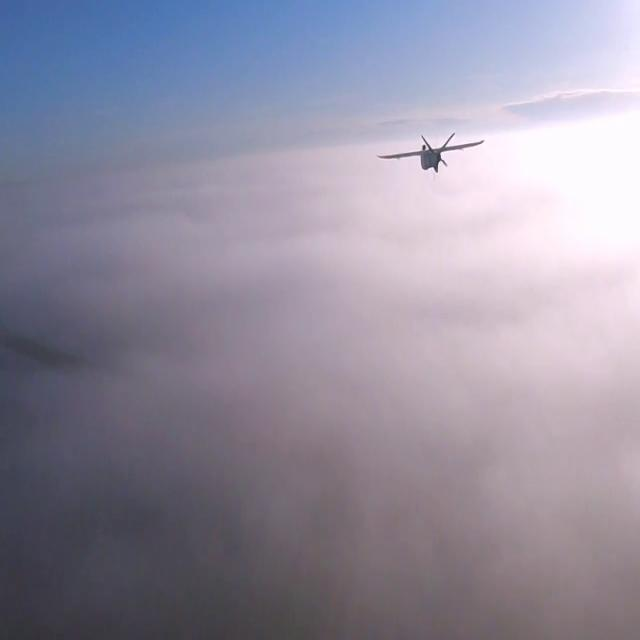iha: (412, 132, 452, 184)
